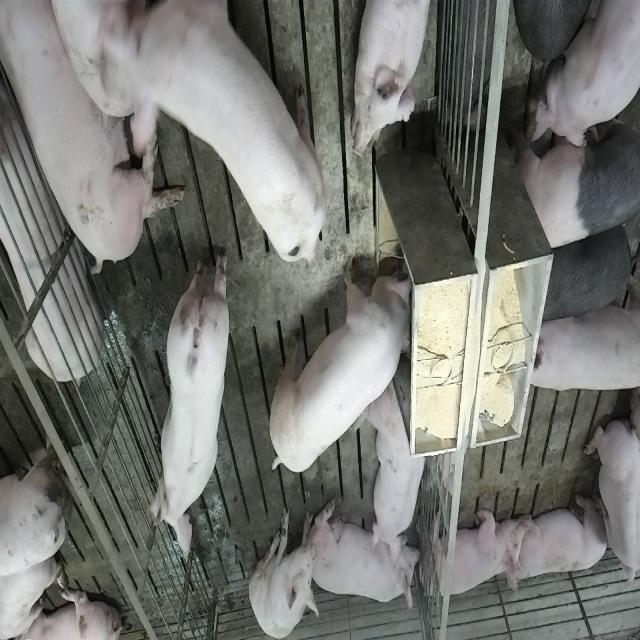Feeding: (273, 250, 421, 474)
Lateral_lying: (3, 6, 187, 278), (0, 3, 103, 383)
Sitting: (249, 504, 319, 638)
Standing: (135, 7, 333, 272), (150, 242, 232, 559), (516, 77, 638, 256), (526, 0, 638, 154), (521, 284, 637, 394), (536, 221, 636, 326)
Sternal_lying: (349, 0, 432, 157), (366, 376, 430, 556), (314, 506, 422, 612), (584, 408, 637, 596), (425, 506, 525, 604), (511, 491, 611, 588)
